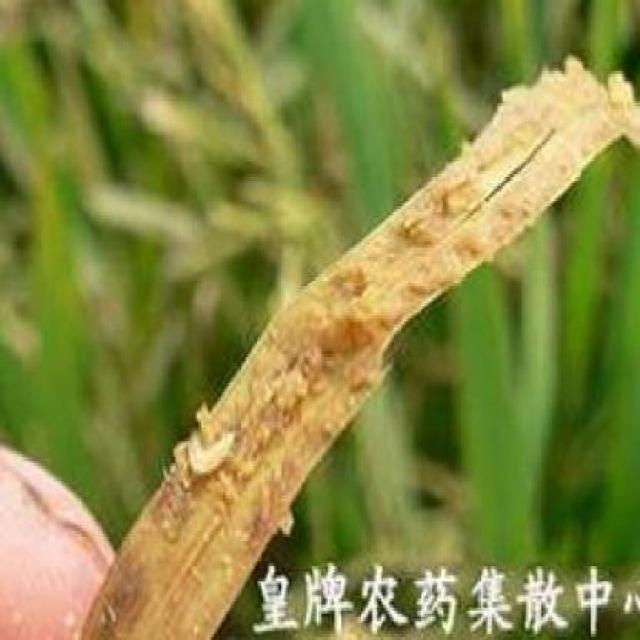whorl-maggot: (178, 423, 251, 480)
